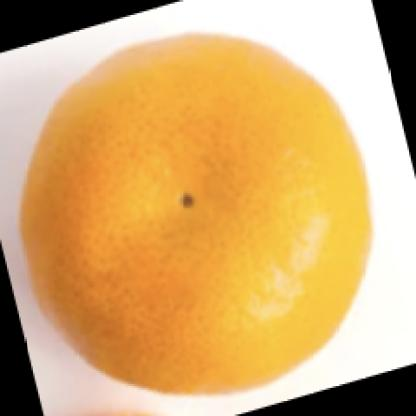fresh: (23, 33, 372, 397)
